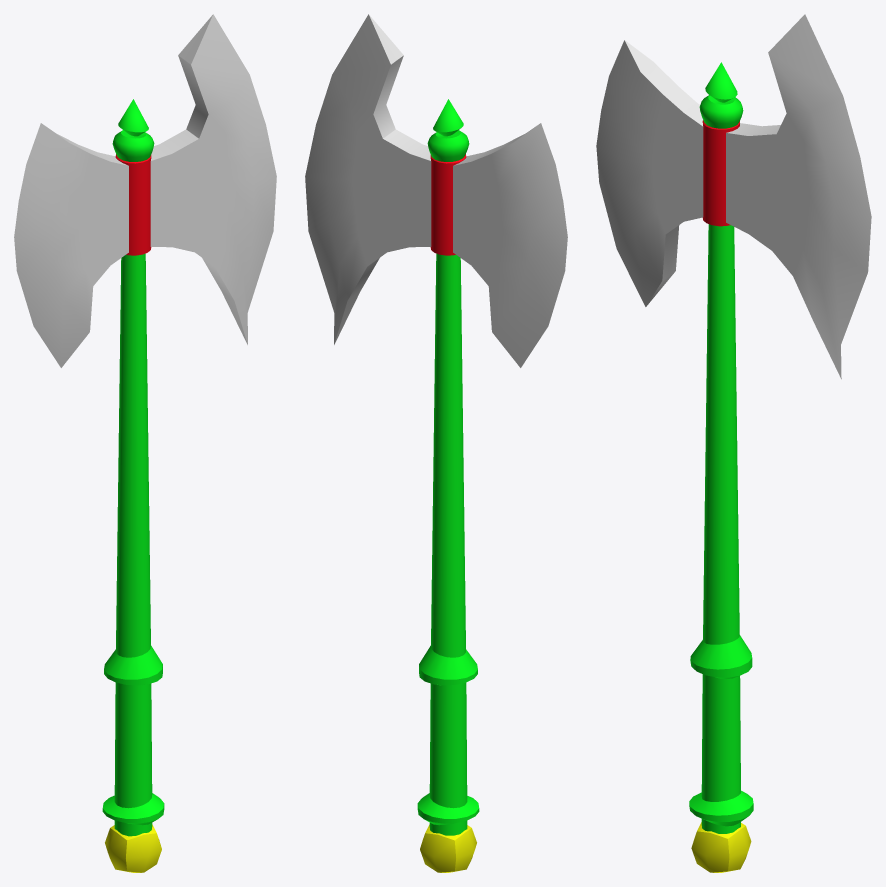
File: Axe.fbx
The picture shows the model from 3 angles, left to right: view 1: azimuth 30°, elevation 25°; view 2: azimuth 150°, elevation 25°; view 3: azimuth 330°, elevation 25°; orthographic projection. The views are drawn at different scales.
Parts seen in each view (by area): view 1: Blade, Handle; view 2: Blade, Handle; view 3: Blade, Handle.
Boxes of the visible parts, <box> form: Blade: <box>14,14,276,367</box>; Handle: <box>102,99,164,872</box>; Blade: <box>305,14,567,367</box>; Handle: <box>417,99,479,872</box>; Blade: <box>596,14,871,379</box>; Handle: <box>689,62,753,872</box>.
Size of the model in its own units: 54.1 by 165 by 11.05.
